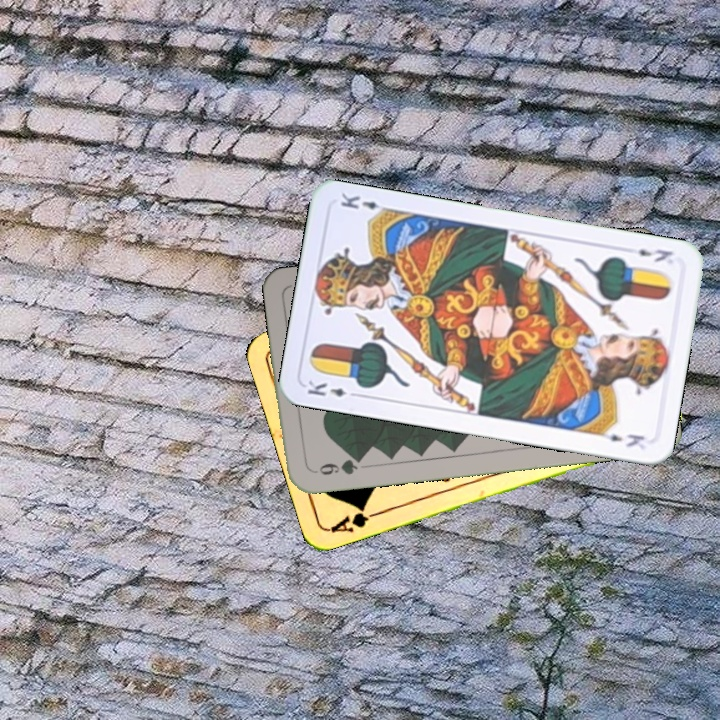EK: (303, 376, 362, 400), (634, 245, 676, 265)
G9: (308, 453, 366, 478)
GA: (327, 501, 384, 536)
